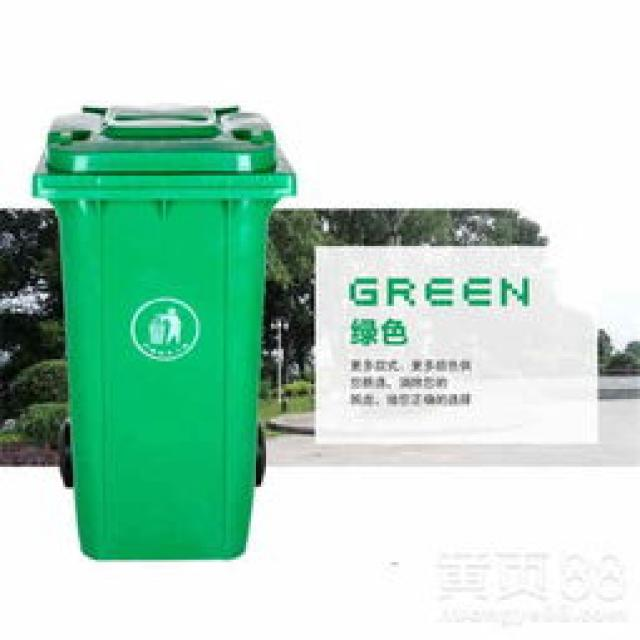garbage_bin: (30, 103, 294, 560)
